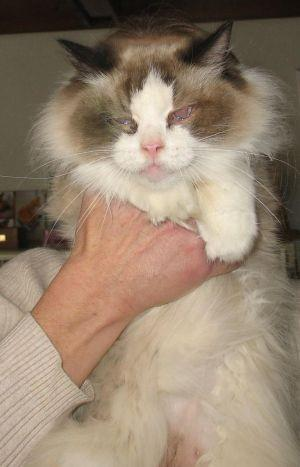ragdoll: (55, 10, 245, 201)
